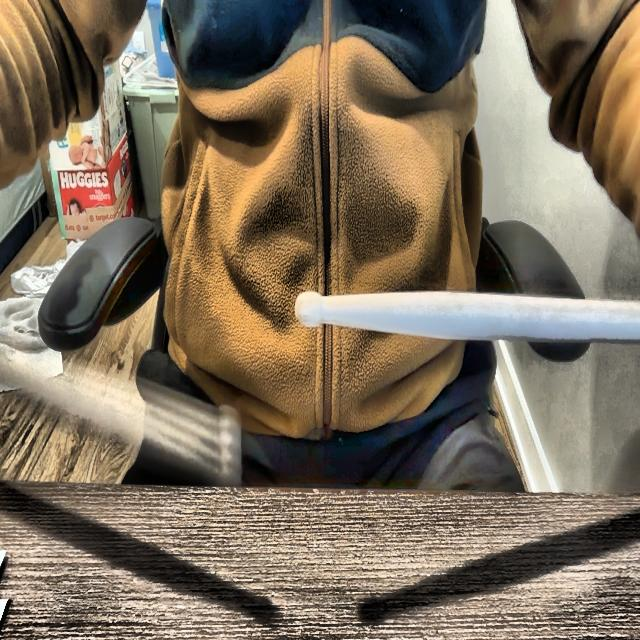Drumstick-Heads: (216, 397, 246, 496), (289, 282, 327, 340)
